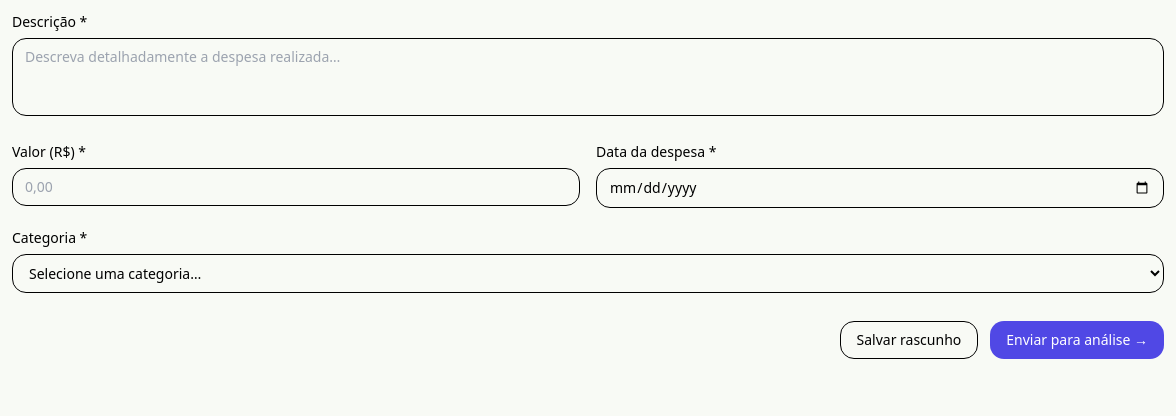
Scenario: ReimbursementForm › shows validation error when amount is zero or missing
In the text box with placeholder "Descreva detalhadamente a despesa realizada…": [588, 77] box left=12, top=38, right=1164, bottom=116, type "Almoço de negócios"
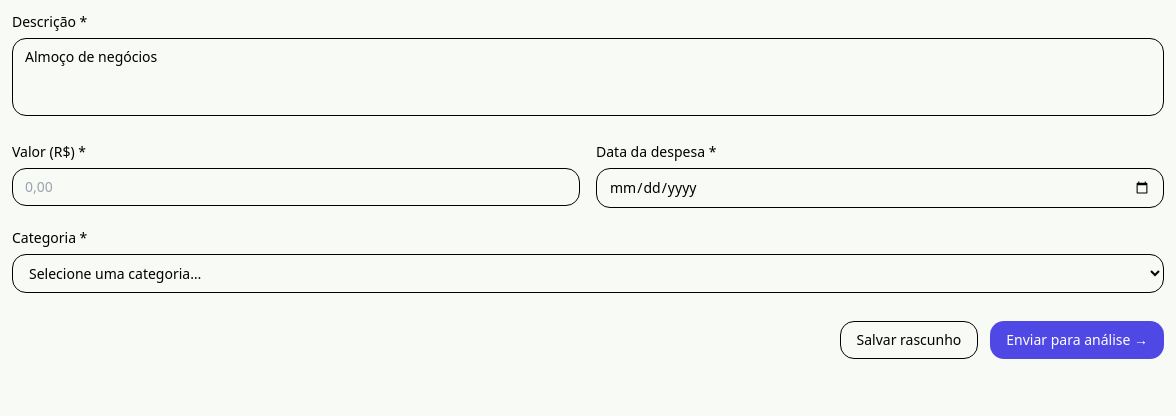
Click the button "Salvar rascunho": [909, 340] box left=840, top=321, right=978, bottom=359
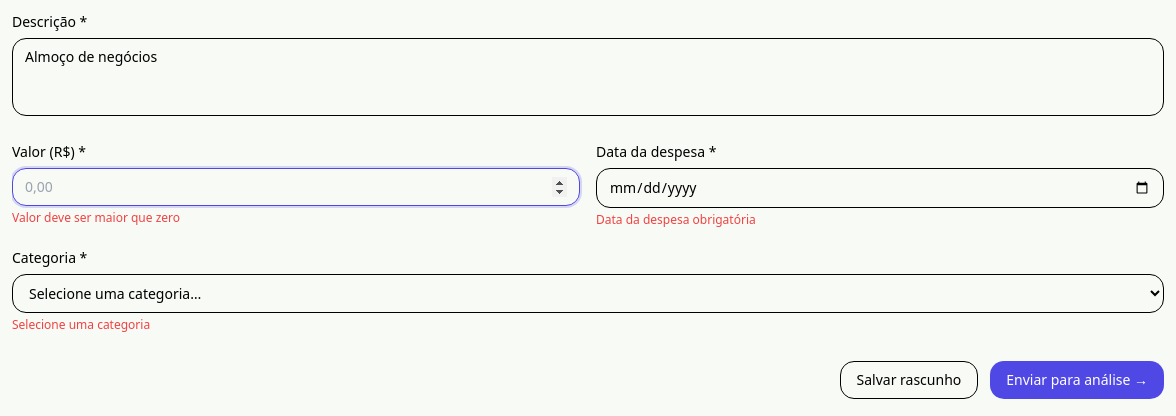
Result: the text "Valor deve ser maior que zero" is shown at left=12, top=209, right=180, bottom=226
